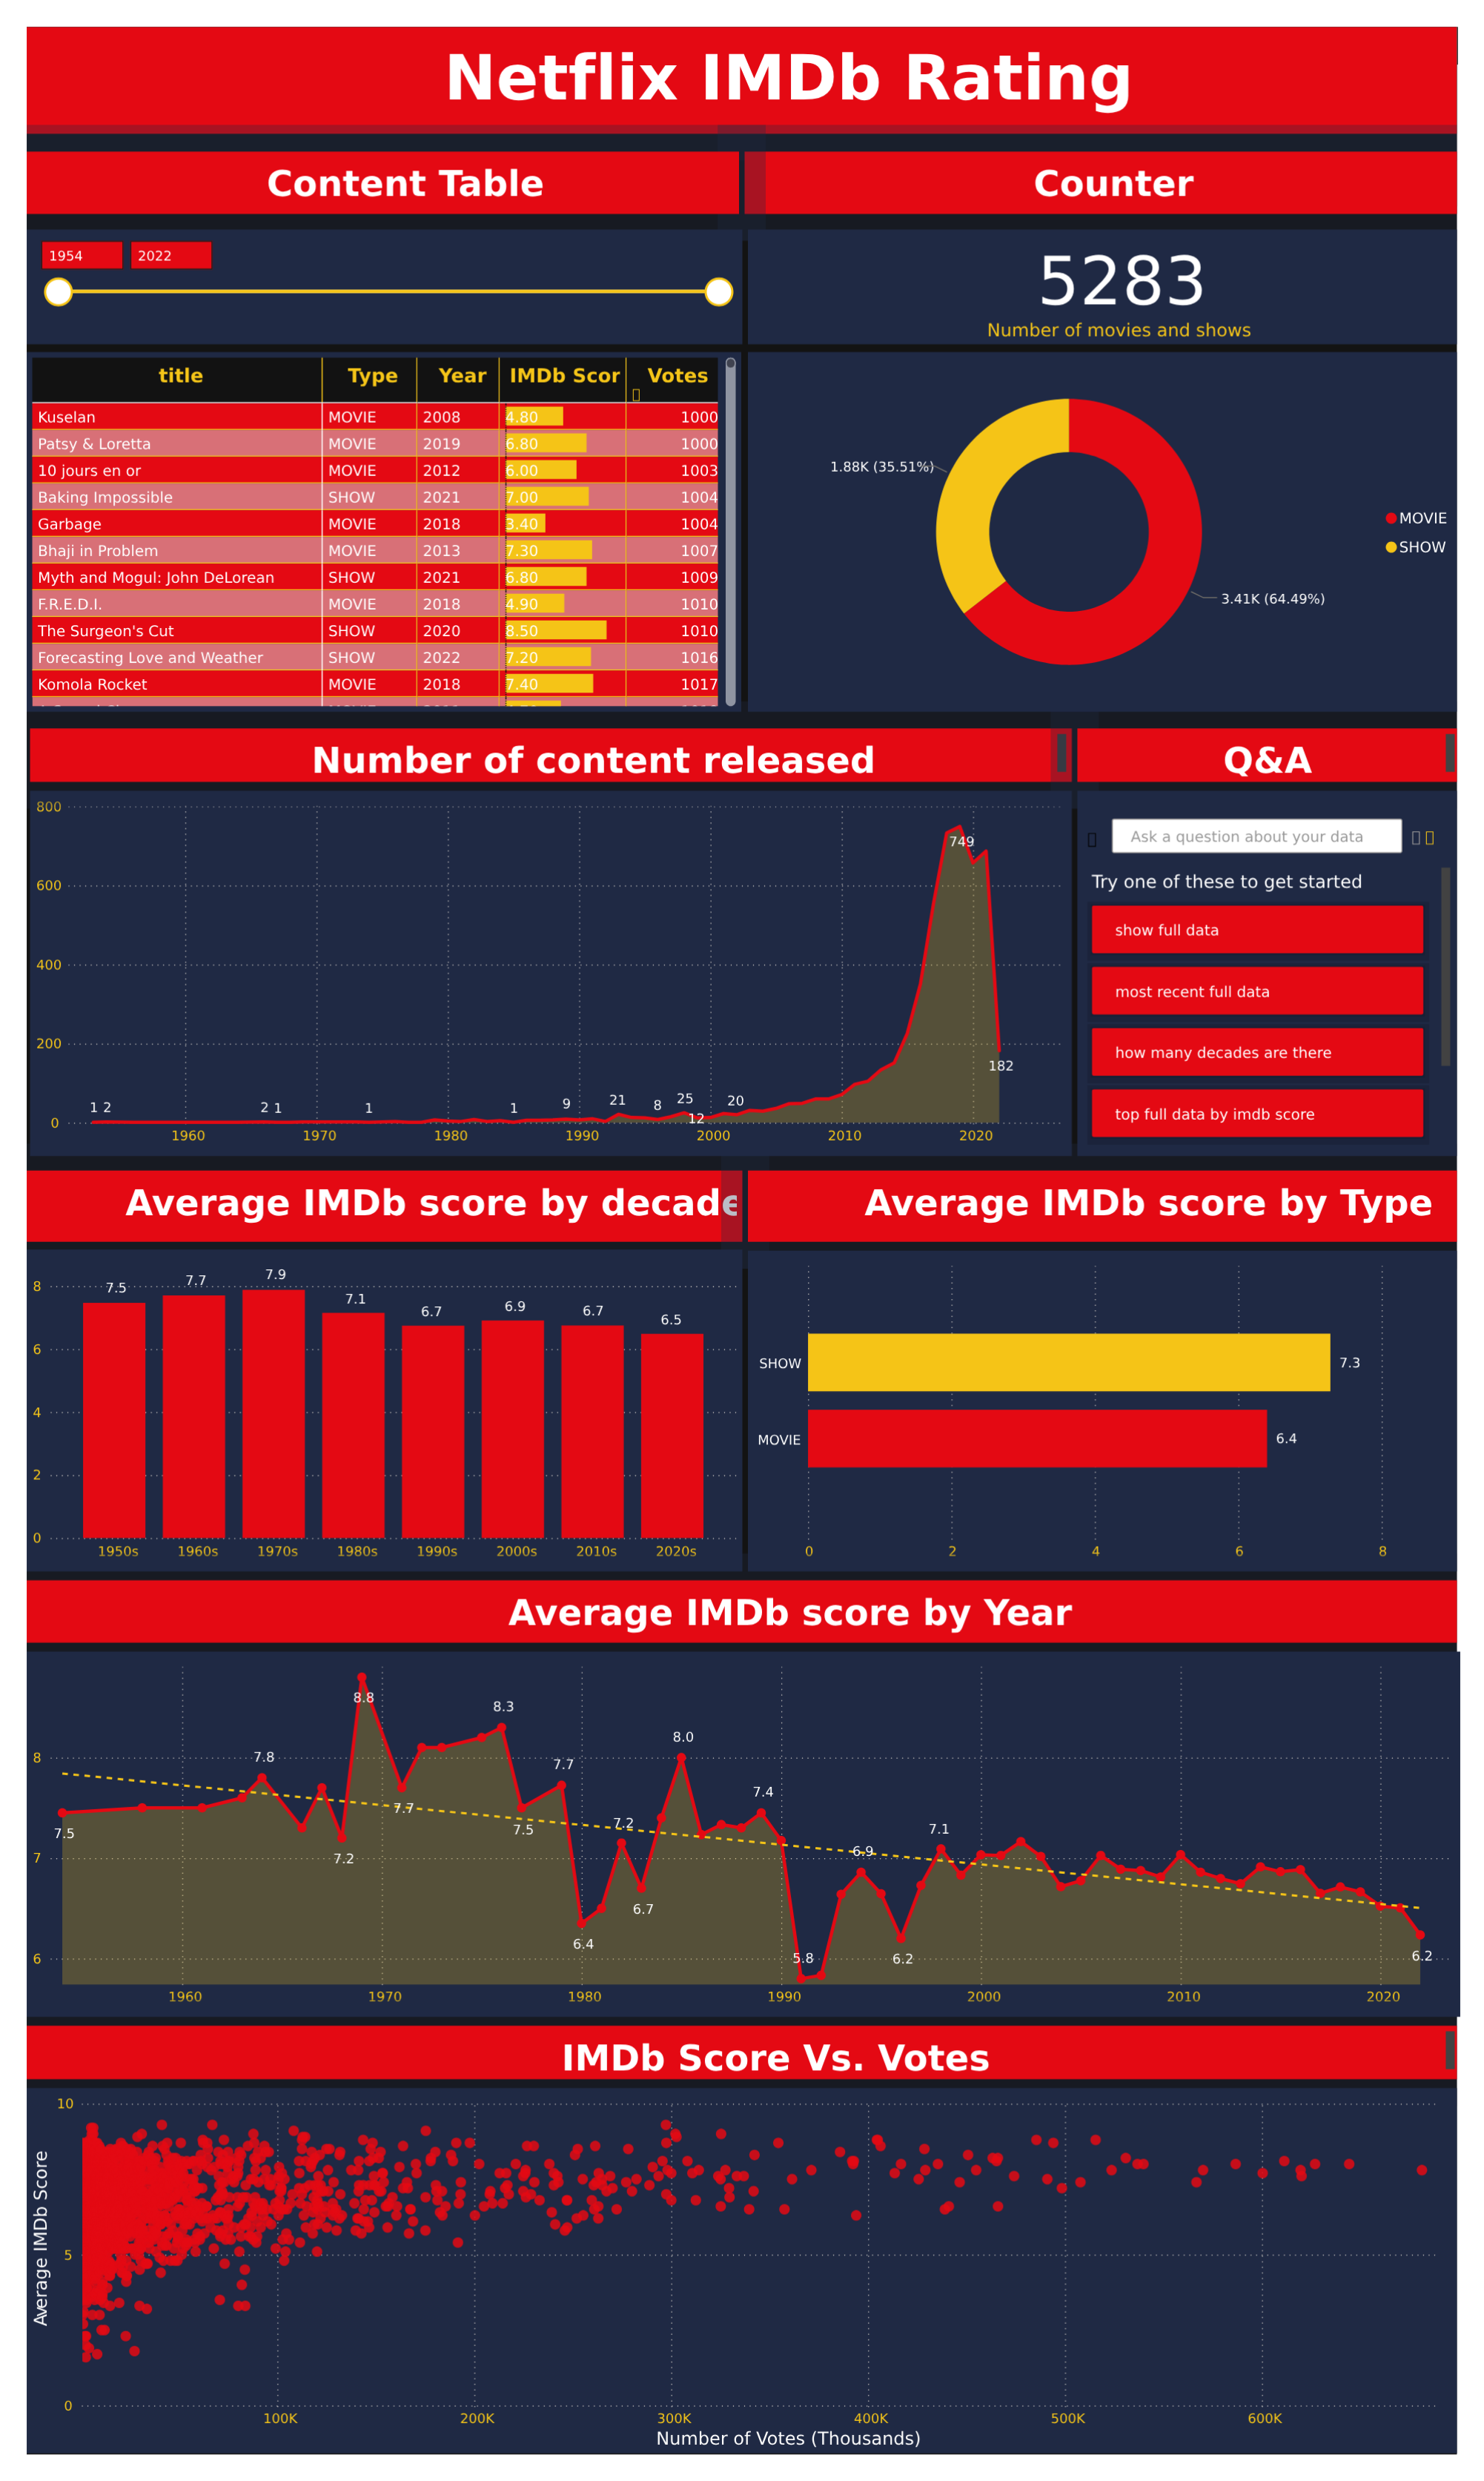

What the dashboard file says about the page in this screenshot:
{"tool":"powerbi","page":{"name":"Page 1","canvas":[1285,2180],"ordinal":0},"visuals":[{"type":"lineChart","fields":{"Category":["imdbV4morethan1K.year"],"Y":["imdbV4morethan1K.score"]},"box":[-0.3,1458.7,1288,328],"z":0},{"type":"clusteredColumnChart","fields":{"Category":["imdbV4morethan1K.decade"],"Y":["imdbV4morethan1K.score"]},"box":[0,1098.3,642.5,288.3],"z":1000},{"type":"clusteredBarChart","fields":{"Category":["imdbV4morethan1K.type"],"Y":["imdbV4morethan1K.score"]},"box":[647.7,1098.7,640,288],"z":2000},{"type":"textbox","box":[-3,0,1288,96],"z":3000},{"type":"textbox","box":[-0.3,1394.7,1288,56],"z":4000},{"type":"textbox","box":[0,1026.7,642.5,64.2],"z":5000},{"type":"textbox","box":[647.7,1026.7,640,64],"z":6000},{"type":"lineChart","fields":{"Category":["full data.release_year"],"Y":["full data.id"]},"box":[3,685.7,936,328],"z":7000},{"type":"textbox","box":[3.1,630,936.2,47.7],"z":8000},{"type":"textbox","box":[944,629.7,344,48],"z":9000},{"type":"donutChart","fields":{"Y":["full data.type"],"Category":["full data.type"],"Series":["full data.type"]},"box":[647.7,292.3,640,322.3],"z":10000},{"type":"card","fields":{"Values":["full data.id"]},"box":[647.7,181.5,640,103.8],"z":11000},{"type":"textbox","box":[645,112,640,56],"z":12000},{"type":"slicer","fields":{"Values":["imdbV4morethan1K.year"]},"box":[0,181.5,643.1,103.8],"z":13000},{"type":"pivotTable","fields":{"Rows":["imdbV4morethan1K.title"],"Values":["imdbV4morethan1K.type","imdbV4morethan1K.YearText","imdbV4morethan1K.score","imdbV4morethan1K.votes"]},"box":[0,292.3,642.3,323.1],"z":14000},{"type":"textbox","box":[0,112,640,56],"z":15000},{"type":"qnaVisual","box":[944,685.7,344,328],"z":16000},{"type":"textbox","box":[-0.3,1794.7,1288,48],"z":17000},{"type":"scatterChart","fields":{"X":["imdbV4morethan1K.votes"],"Y":["imdbV4morethan1K.score"]},"box":[-0.3,1850.7,1288,328],"z":18000}]}

Visuals, with their boxes on the page's 1285x2180 design canvas (x1, y1, x2, y2). These are canvas units, not pixel positions in the 1484x2481 screenshot, which may show the page scaled, cropped or inside an application window:
lineChart - imdbV4morethan1K.year x imdbV4morethan1K.score: x1=0, y1=1459, x2=1288, y2=1787
clusteredColumnChart - imdbV4morethan1K.decade x imdbV4morethan1K.score: x1=0, y1=1098, x2=642, y2=1387
clusteredBarChart - imdbV4morethan1K.type x imdbV4morethan1K.score: x1=648, y1=1099, x2=1288, y2=1387
textbox: x1=-3, y1=0, x2=1285, y2=96
textbox: x1=0, y1=1395, x2=1288, y2=1451
textbox: x1=0, y1=1027, x2=642, y2=1091
textbox: x1=648, y1=1027, x2=1288, y2=1091
lineChart - full data.release_year x full data.id: x1=3, y1=686, x2=939, y2=1014
textbox: x1=3, y1=630, x2=939, y2=678
textbox: x1=944, y1=630, x2=1288, y2=678
donutChart - full data.type x full data.type: x1=648, y1=292, x2=1288, y2=615
card - full data.id: x1=648, y1=182, x2=1288, y2=285
textbox: x1=645, y1=112, x2=1285, y2=168
slicer - imdbV4morethan1K.year: x1=0, y1=182, x2=643, y2=285
pivotTable - imdbV4morethan1K.title x imdbV4morethan1K.type: x1=0, y1=292, x2=642, y2=615
textbox: x1=0, y1=112, x2=640, y2=168
qnaVisual: x1=944, y1=686, x2=1288, y2=1014
textbox: x1=0, y1=1795, x2=1288, y2=1843
scatterChart - imdbV4morethan1K.votes x imdbV4morethan1K.score: x1=0, y1=1851, x2=1288, y2=2179
